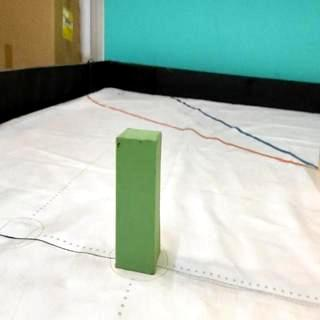greenbox: (116, 126, 162, 274)
